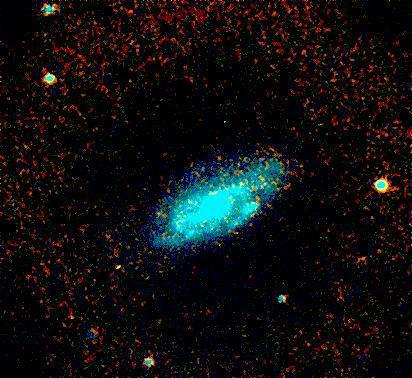star: (102, 252, 132, 282)
